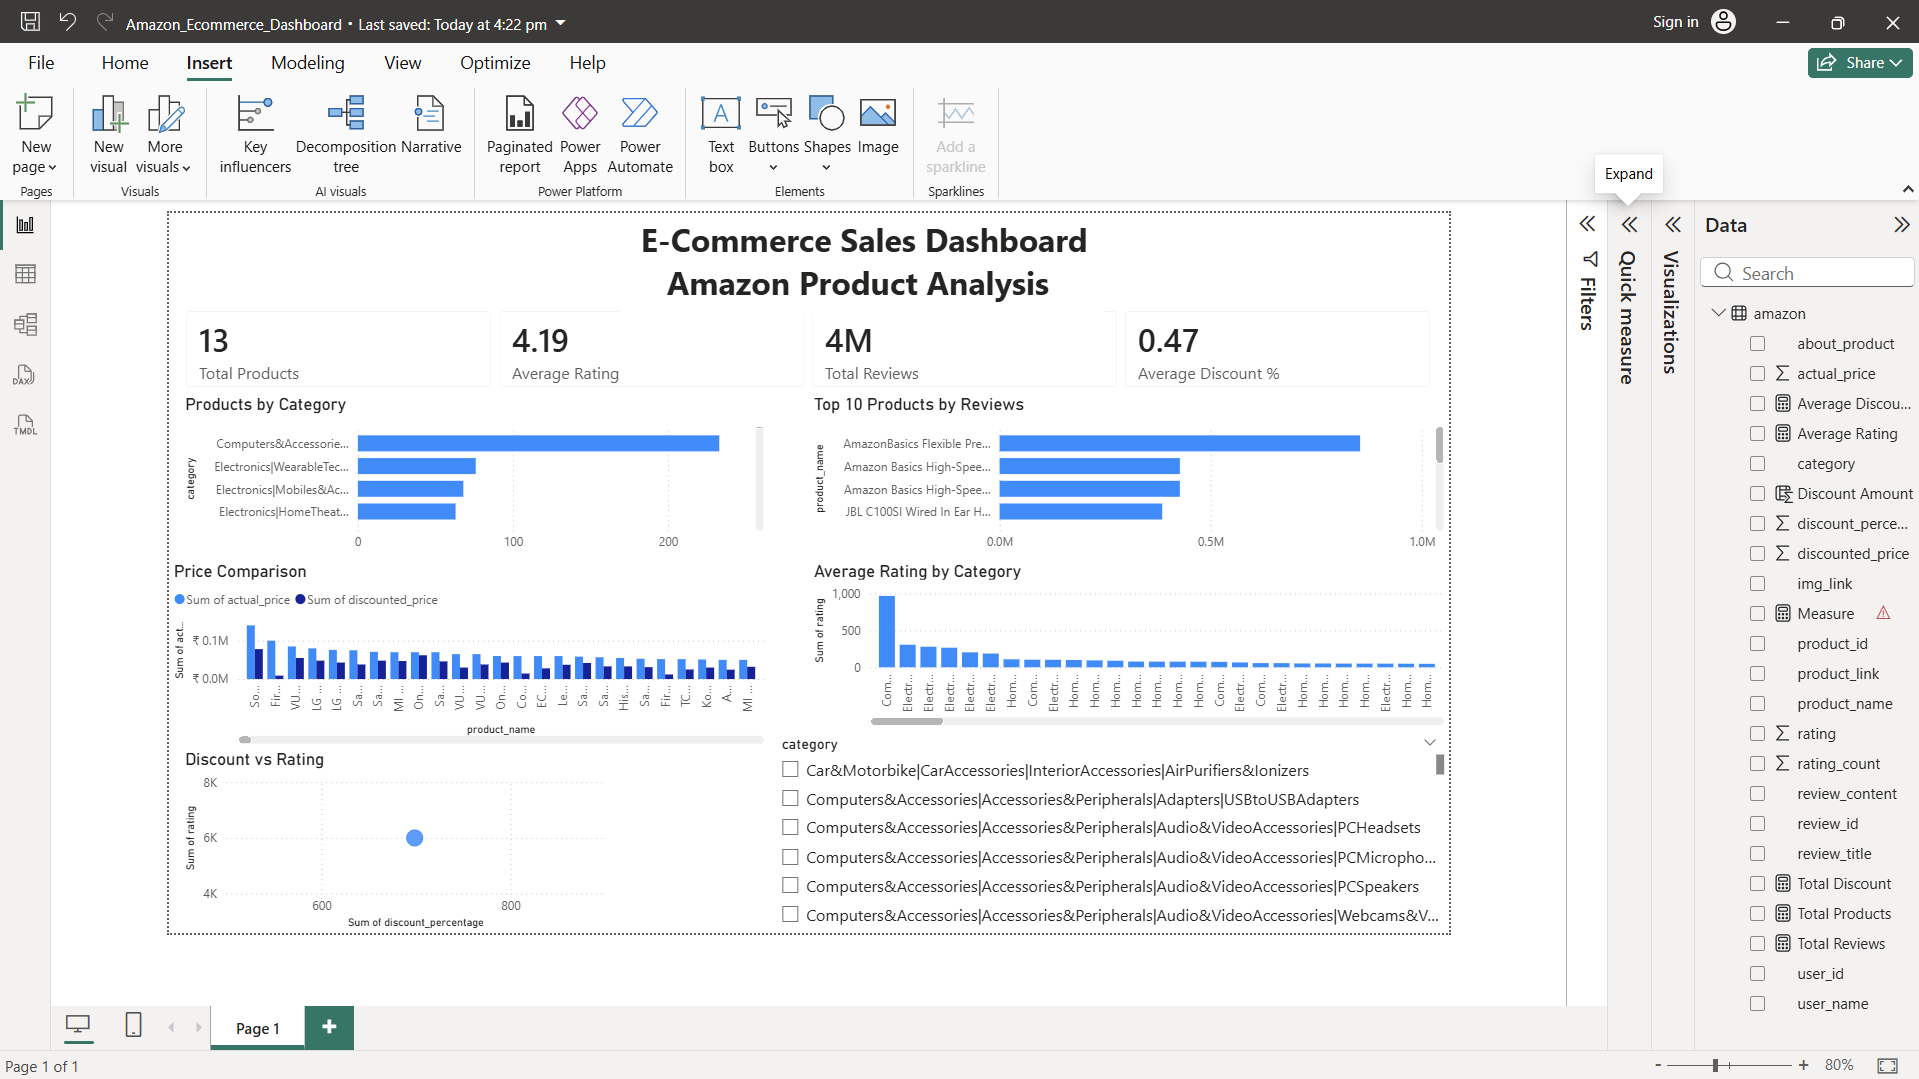

Layout of this report page (visuals, bound fields, positions):
{"tool":"powerbi","page":{"name":"Page 1","canvas":[1280,720],"ordinal":0},"visuals":[{"type":"cardVisual","fields":{"Data":["amazon.Total Products","amazon.Average Rating","amazon.Total Reviews","amazon.Average Discount %"]},"box":[0,81.4,1280,110],"z":0},{"type":"clusteredBarChart","title":"Products by Category","fields":{"Category":["amazon.category"],"Y":["CountNonNull(amazon.product_id)"]},"box":[11.4,181.4,588.6,165.7],"z":1000},{"type":"clusteredBarChart","title":"Top 10 Products by Reviews","fields":{"Category":["amazon.product_name"],"Y":["Sum(amazon.rating_count)"]},"box":[640,181.4,640,165.7],"z":2000},{"type":"clusteredColumnChart","title":"Price Comparison","fields":{"Category":["amazon.product_name"],"Y":["Sum(amazon.actual_price)","Sum(amazon.discounted_price)"]},"box":[0,347.1,600,188.6],"z":3000},{"type":"clusteredColumnChart","title":"Average Rating by Category","fields":{"Category":["amazon.category"],"Y":["Sum(amazon.rating)"]},"box":[640,347.1,640,170],"z":4000},{"type":"scatterChart","title":"Discount vs Rating","fields":{"X":["Sum(amazon.discount_percentage)"],"Y":["Sum(amazon.rating)"],"Size":["Sum(amazon.rating_count)"]},"box":[11.4,535.7,440,184.3],"z":5000},{"type":"slicer","fields":{"Values":["amazon.category"]},"box":[600,517.1,680,202.9],"z":6000},{"type":"textbox","box":[451.4,0,484.3,104.3],"z":7000}]}

Visuals, with their boxes on the page's 1280x720 design canvas (x1, y1, x2, y2). These are canvas units, not pixel positions in the 1919x1079 screenshot, which may show the page scaled, cropped or inside an application window:
cardVisual - amazon.Total Products x amazon.Average Rating: locate(0, 81, 1280, 191)
"Products by Category" clusteredBarChart: locate(11, 181, 600, 347)
"Top 10 Products by Reviews" clusteredBarChart: locate(640, 181, 1280, 347)
"Price Comparison" clusteredColumnChart: locate(0, 347, 600, 536)
"Average Rating by Category" clusteredColumnChart: locate(640, 347, 1280, 517)
"Discount vs Rating" scatterChart: locate(11, 536, 451, 720)
slicer - amazon.category: locate(600, 517, 1280, 720)
textbox: locate(451, 0, 936, 104)
